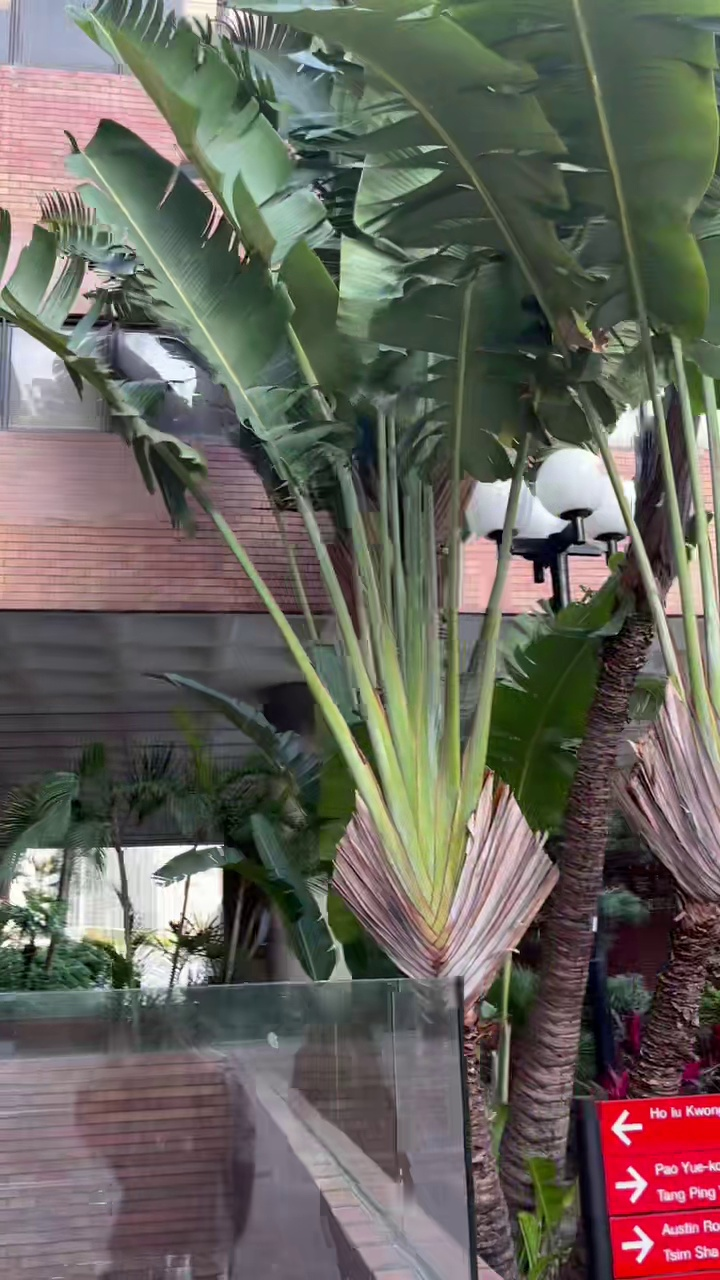Travellers-tree: (2, 0, 719, 1277)
